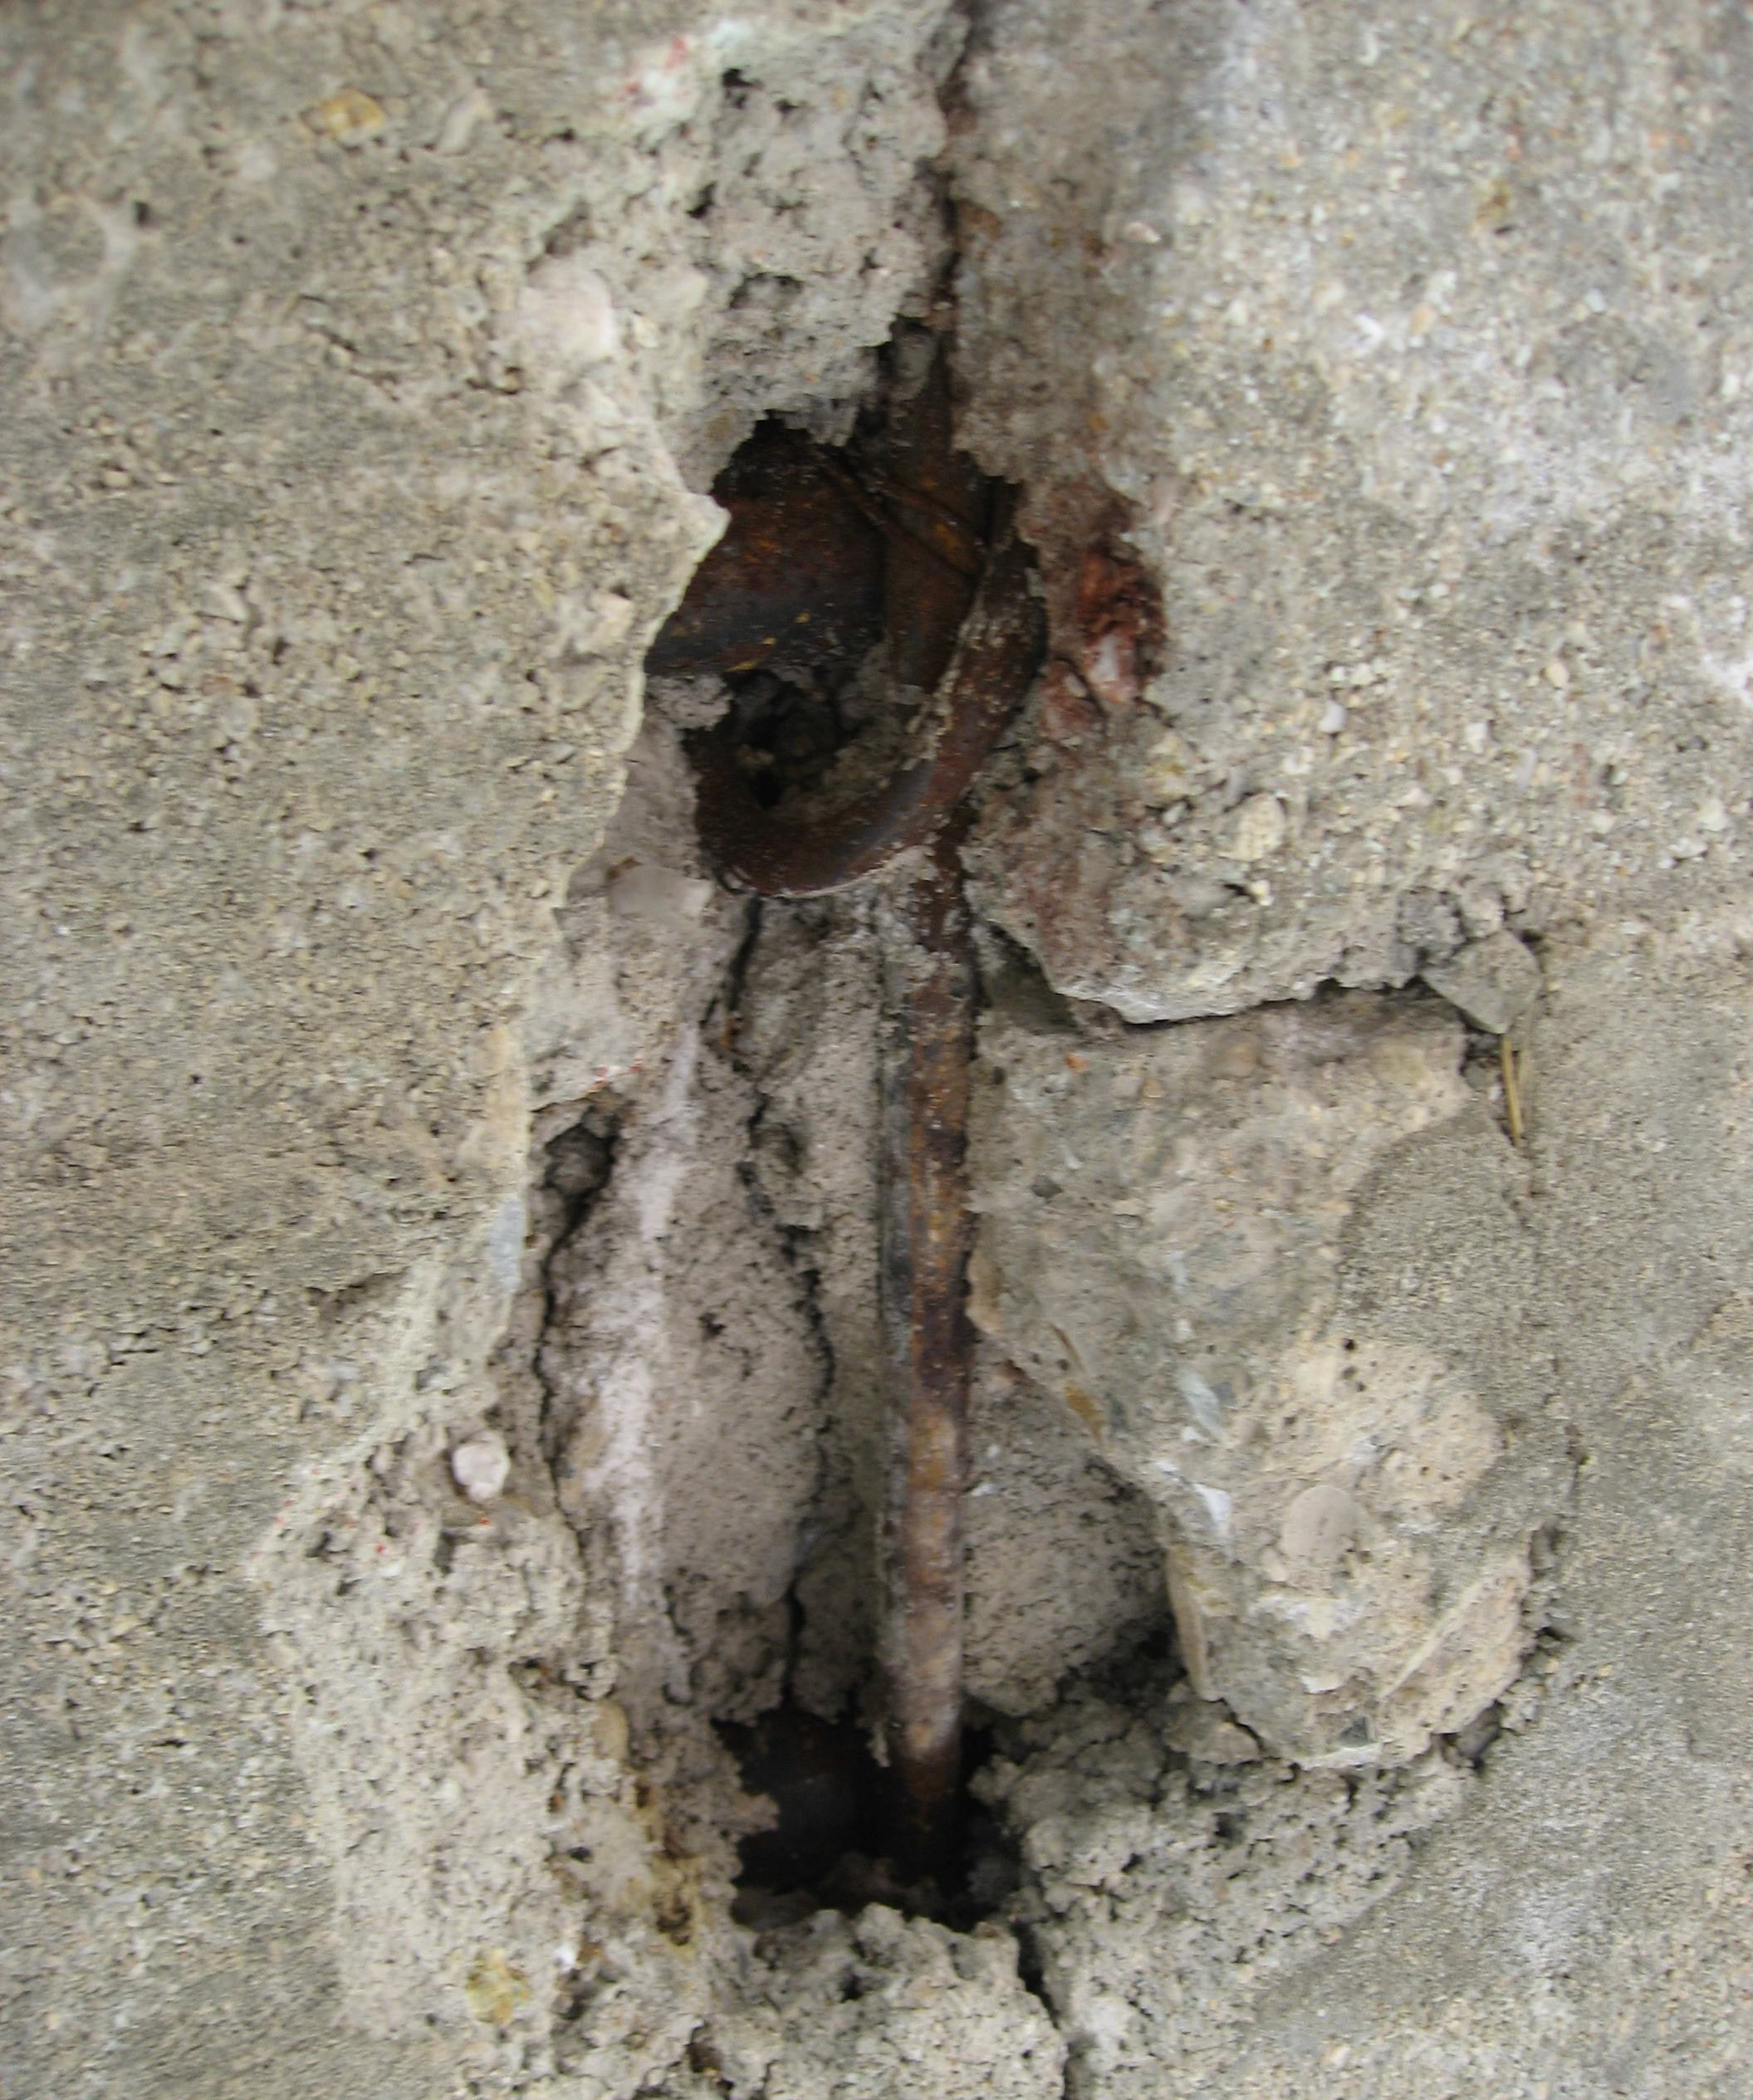Exposed reinforcement: (698, 525, 1052, 898), (862, 849, 973, 1800)
Spalling: (249, 0, 1580, 2100)
